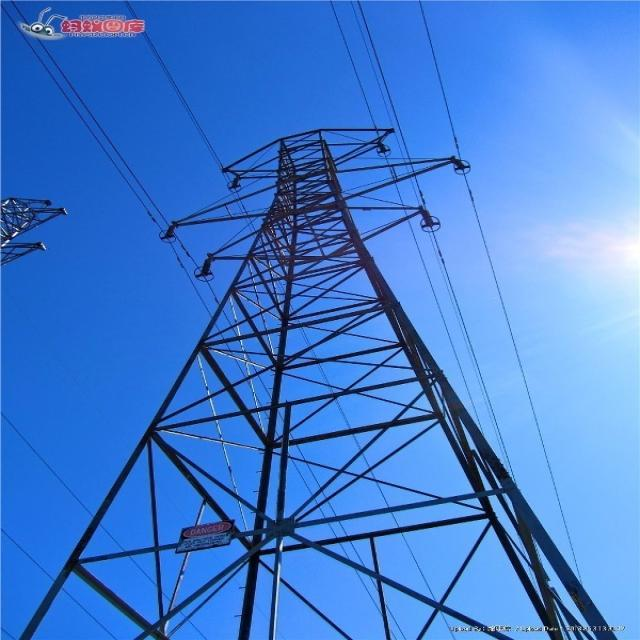non-critical vegetation: (66, 153, 591, 624)
